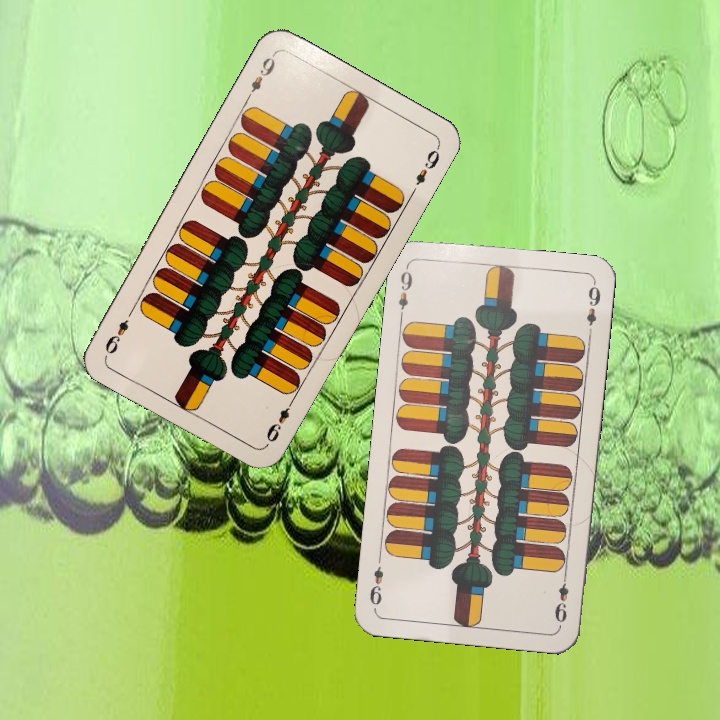E9: (242, 50, 278, 103), (262, 394, 297, 448), (394, 262, 415, 321), (550, 569, 571, 625)
